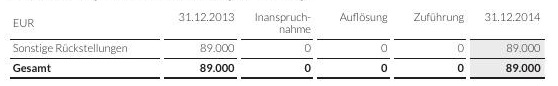table: (0, 0, 558, 86)
